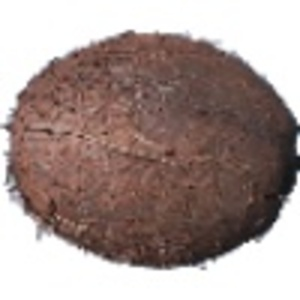coco: (4, 31, 300, 270)
